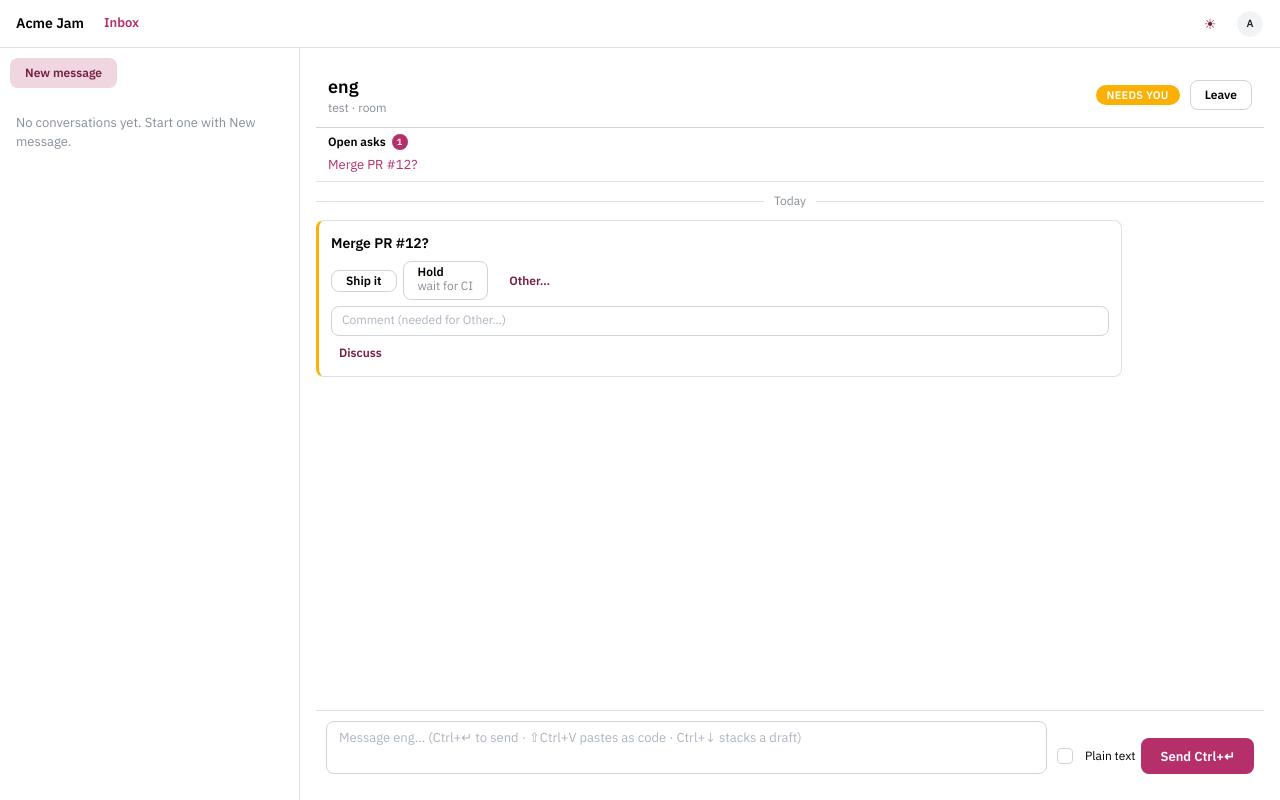
Test: ask cards › says why when the ask changed, and shows the new version
The image size is (1280, 800).
Click the button "Ship it" at (364, 280), box [331,270,396,292]
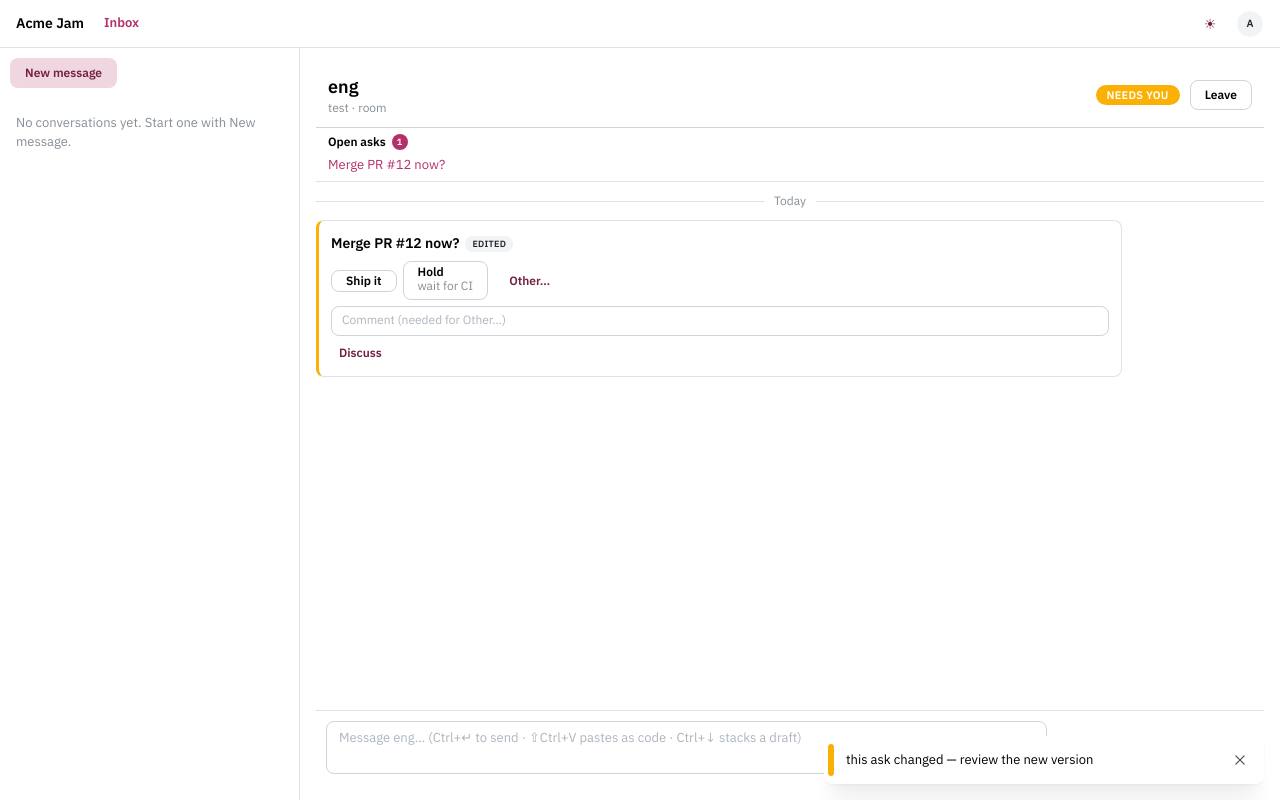
Now the text "this ask changed — review the new version" is shown, box [846,751,1093,768]
Now the text "Merge PR #12 now?" is shown, box [331,233,459,255]
Now the text "edited" is shown, box [472,237,506,251]
